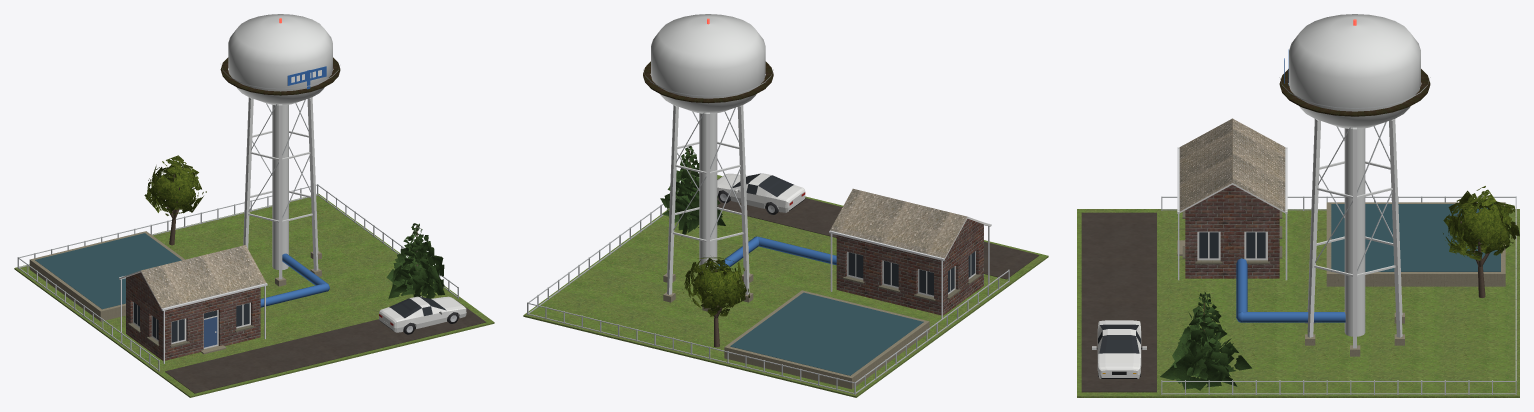
The model's file is water_pump.glb.
3 views of the same model, side by side, from view 1: azimuth 30°, elevation 25°; view 2: azimuth 150°, elevation 25°; view 3: azimuth 270°, elevation 25° (orthographic). The views are drawn at different scales.
Parts seen in each view (by area): view 1: water_pump_body, water_pump_foliage; view 2: water_pump_body, water_pump_foliage; view 3: water_pump_body, water_pump_foliage.
Boxes of the visible parts, bbox=[...] form: water_pump_body: bbox=[14, 14, 494, 397]; water_pump_foliage: bbox=[144, 155, 444, 298]; water_pump_body: bbox=[523, 14, 1048, 397]; water_pump_foliage: bbox=[660, 146, 749, 316]; water_pump_body: bbox=[1077, 14, 1519, 397]; water_pump_foliage: bbox=[1160, 186, 1519, 390].
Size of the model in its own units: 0.94 by 0.736 by 0.94.
27 materials, 12 textured.
